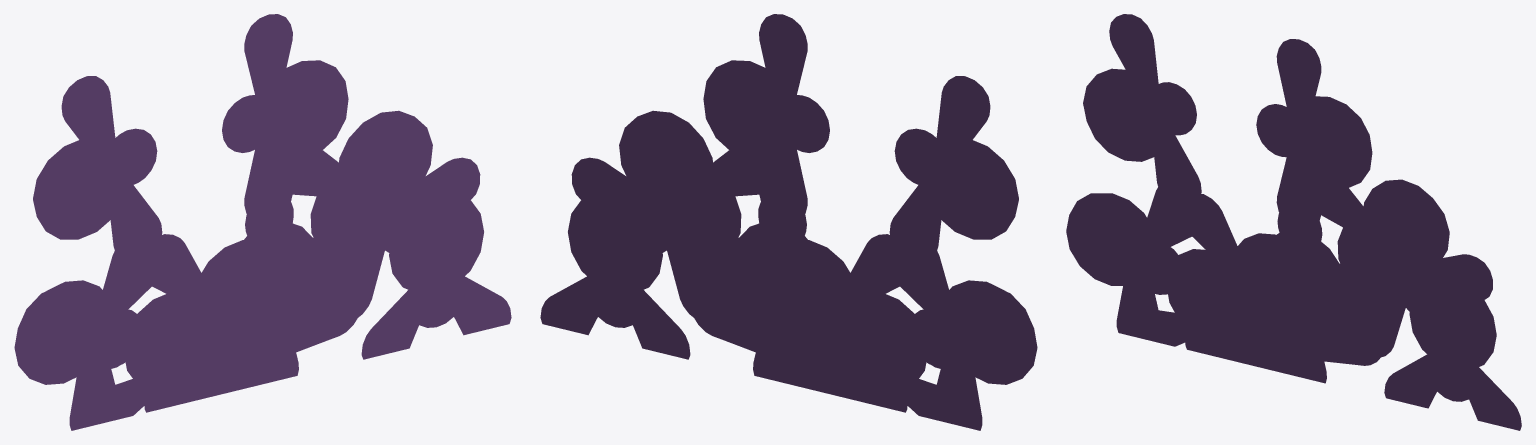
File: Shadows.fbx
3 views of the same model, side by side, from view 1: azimuth 30°, elevation 25°; view 2: azimuth 150°, elevation 25°; view 3: azimuth 330°, elevation 25° (orthographic). The views are drawn at different scales.
Parts seen in each view (by area): view 1: Silhouette8, Silhouette7, Silhouette11, Silhouette9, Silhouette12, Silhouette10; view 2: Silhouette8, Silhouette9, Silhouette7, Silhouette11, Silhouette12, Silhouette10; view 3: Silhouette8, Silhouette7, Silhouette9, Silhouette11, Silhouette10, Silhouette12.
Boxes of the visible parts, x1,y1,x2,y2 form: Silhouette8: (20, 76, 162, 430); Silhouette7: (165, 157, 480, 397); Silhouette11: (222, 14, 351, 383); Silhouette9: (275, 110, 511, 359); Silhouette12: (14, 234, 277, 430); Silhouette10: (76, 204, 377, 419); Silhouette8: (889, 76, 1031, 415); Silhouette9: (540, 110, 776, 359); Silhouette7: (571, 157, 886, 397); Silhouette11: (699, 14, 829, 385); Silhouette12: (767, 234, 1037, 430); Silhouette10: (668, 206, 976, 429); Silhouette8: (1071, 14, 1201, 342); Silhouette7: (1204, 210, 1492, 381); Silhouette9: (1305, 169, 1521, 430); Silhouette11: (1256, 39, 1372, 383); Silhouette10: (1122, 231, 1402, 375); Silhouette12: (1066, 189, 1310, 368).
Bounding box in the file's own units: 52.37 × 37.09 × 5.96e-08.
